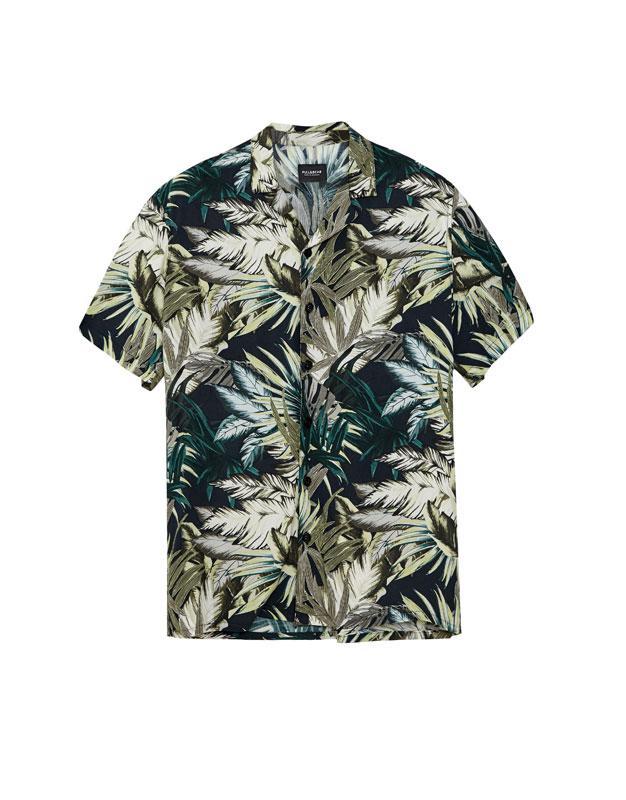teeshirt: (64, 117, 552, 662)
